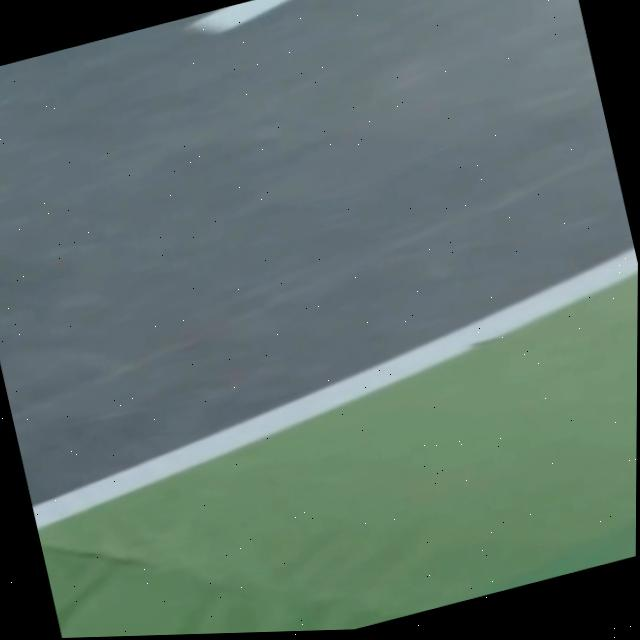center: (188, 0, 287, 33)
right: (31, 248, 638, 529)
